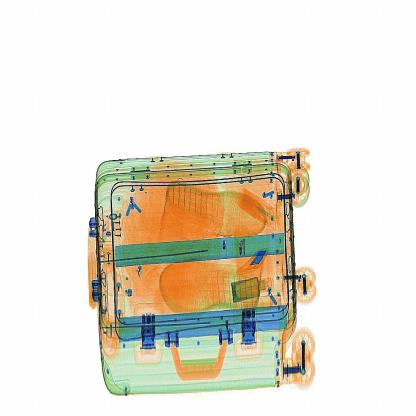pliers: (240, 236, 276, 280)
